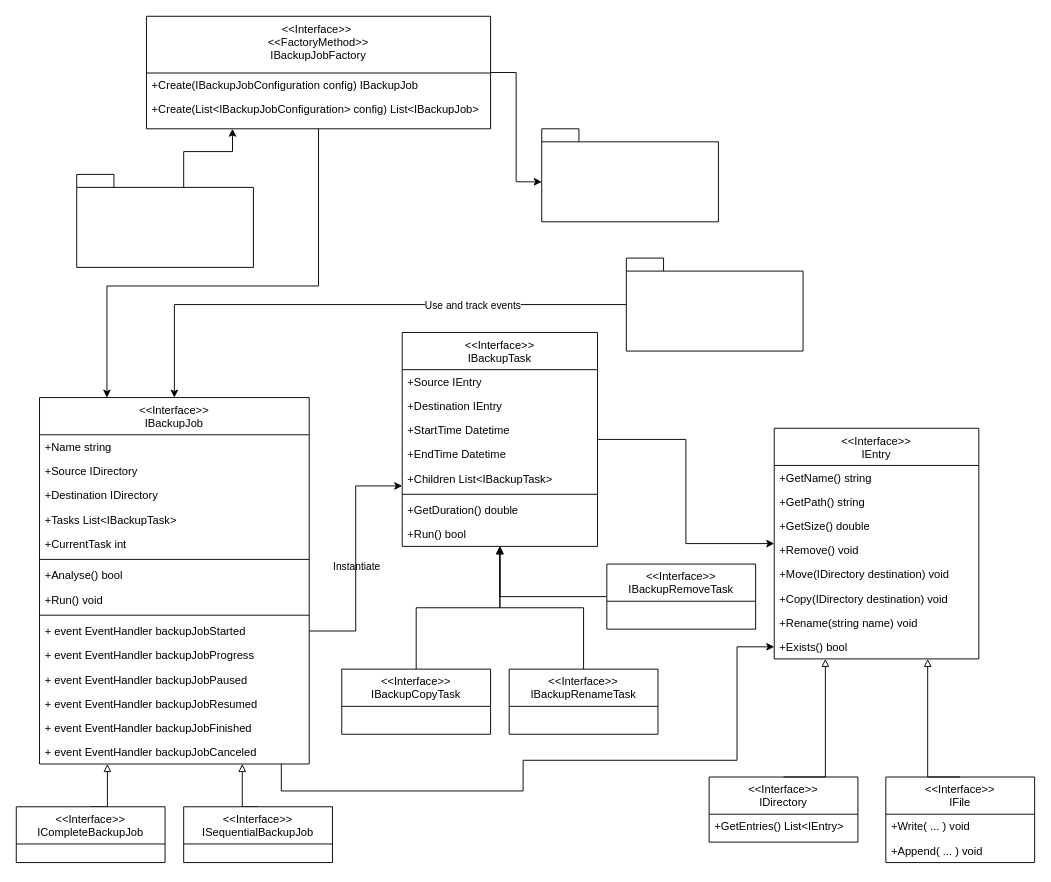
Some shapes in this 1051 by 882 pixel diagram are drawn without their labels. Each missing label, with the centre of its shape:
"Configuration (Model)" belongs at point (629, 175).
"State (Model)" belongs at point (714, 304).
"View Model" belongs at point (164, 220).
